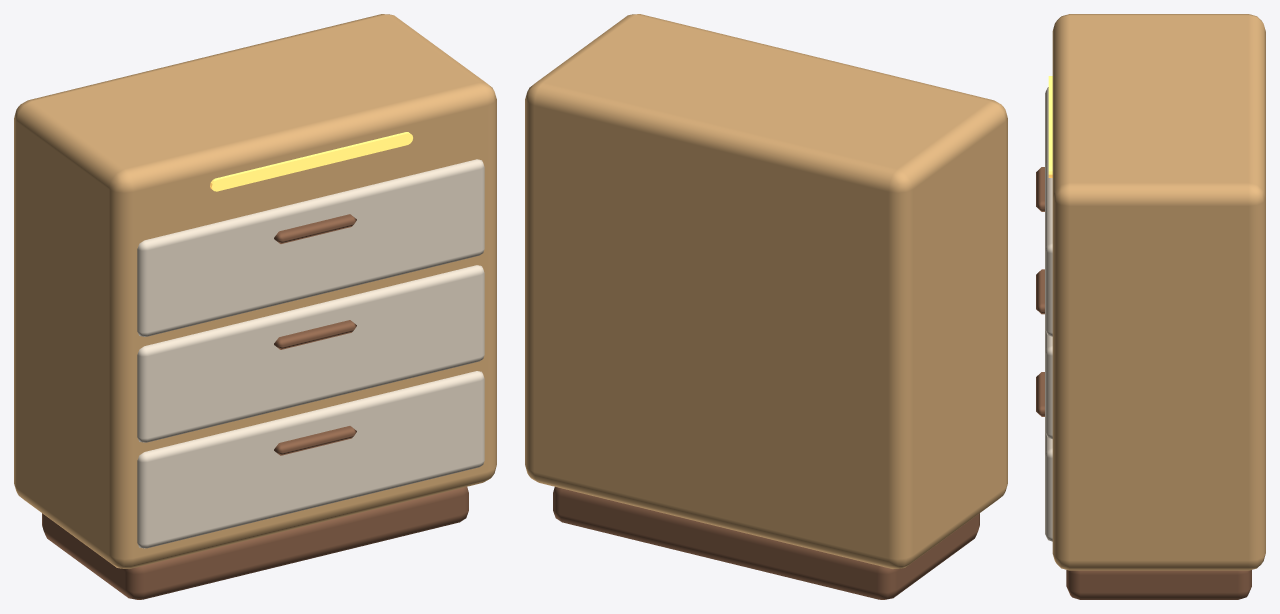
The model's file is kit_storage_cabinet_v1.glb.
3 renders of one model, left to right at view 1: azimuth 30°, elevation 25°; view 2: azimuth 150°, elevation 25°; view 3: azimuth 270°, elevation 25°, orthographic. The views are drawn at different scales.
Visible parts, largest first — view 1: body, status_led; view 2: body; view 3: body, status_led.
Part boxes in pixels (x1,y1,x2,y2): body: (14, 14, 496, 599); status_led: (210, 132, 412, 191); body: (525, 14, 1007, 599); body: (1036, 14, 1265, 599); status_led: (1048, 76, 1052, 177).
Bounding box in the file's own units: 0.9 × 0.98 × 0.48.
